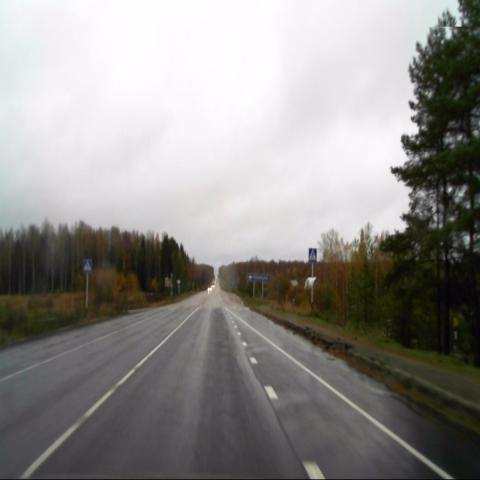5_19_1: (308, 247, 317, 263), (84, 257, 92, 272)
